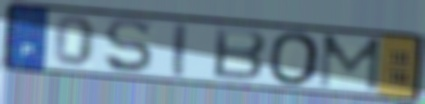0: (52, 13, 99, 70)
B: (210, 25, 269, 83)
I: (172, 21, 190, 79)
M: (316, 33, 385, 93)
O: (268, 31, 322, 88)
S: (102, 17, 155, 76)
